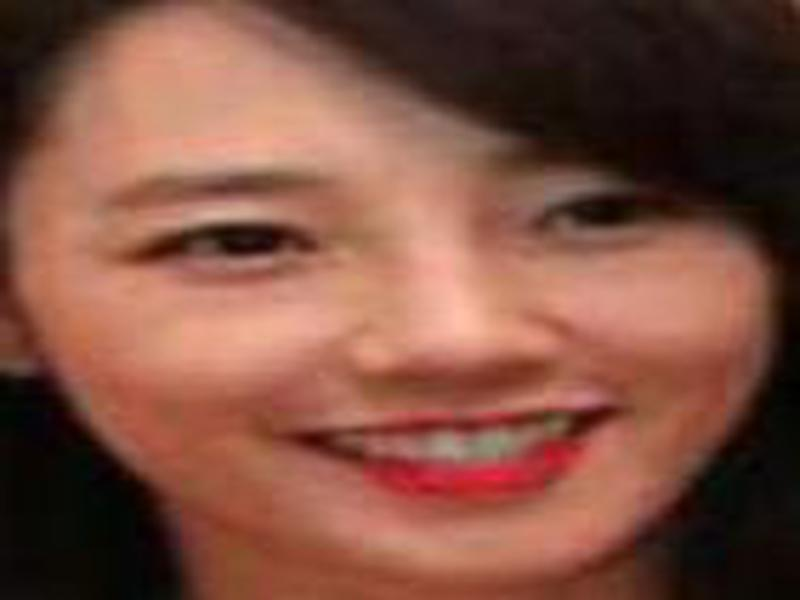without_mask: (15, 80, 781, 585)
